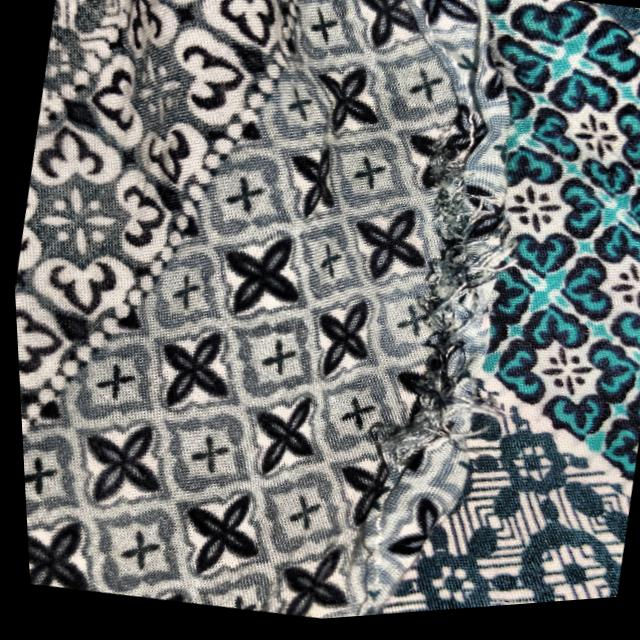Stitch: (341, 86, 580, 514)
